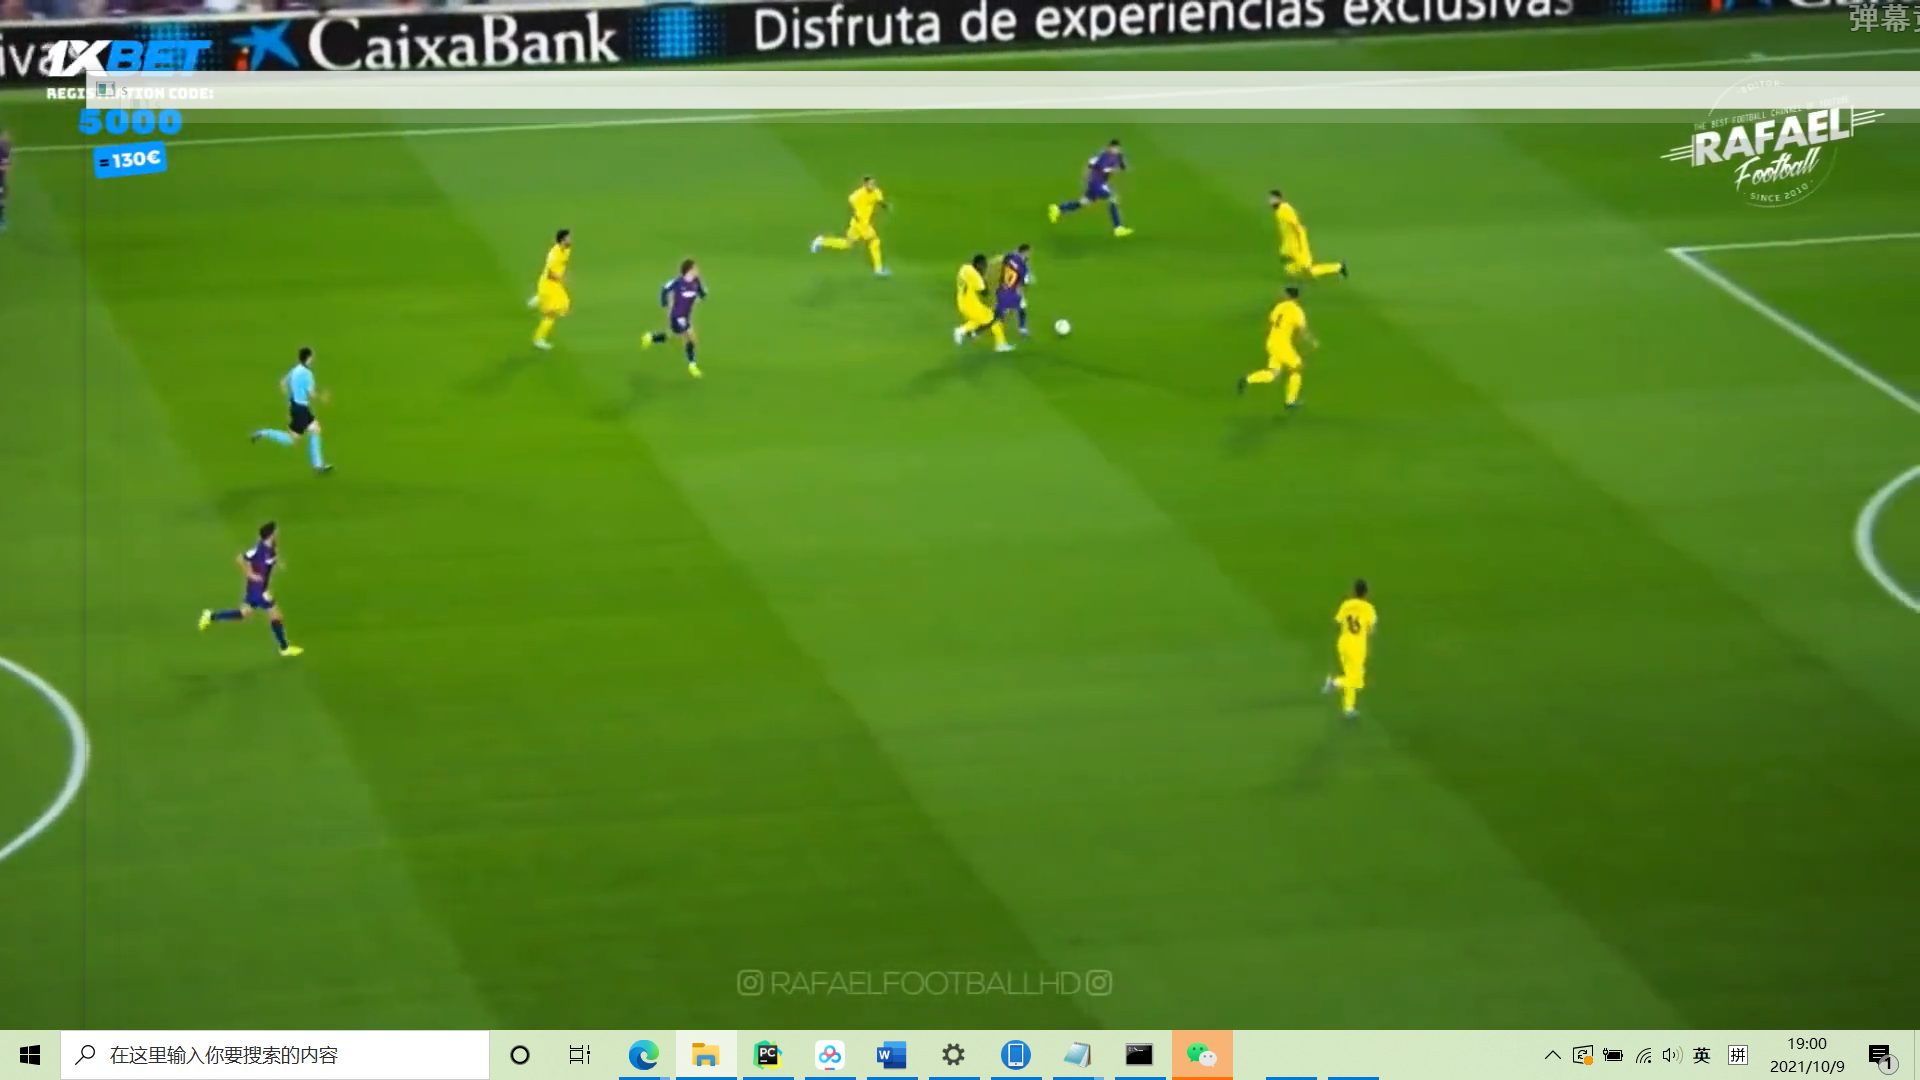ft: (1054, 318, 1072, 338)
